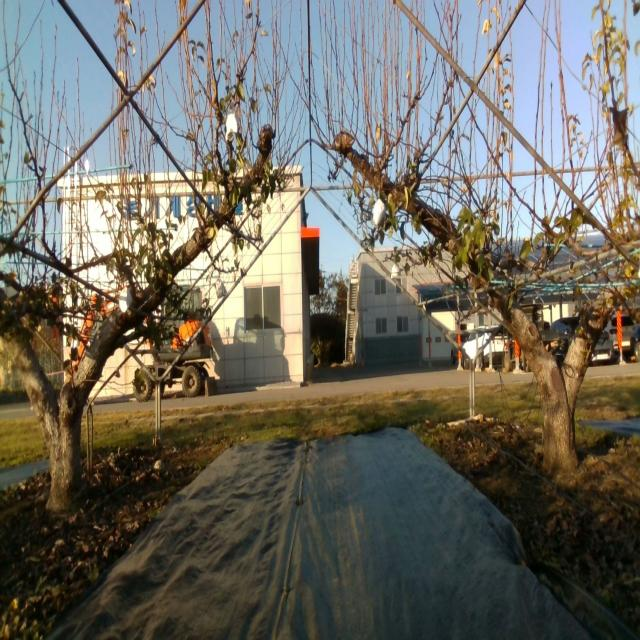pearbags: (223, 109, 240, 141), (119, 282, 132, 313), (372, 199, 387, 224), (216, 278, 227, 298)
